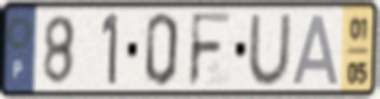0: (142, 10, 181, 90)
1: (98, 12, 121, 89)
8: (41, 12, 79, 88)
A: (290, 12, 342, 87)
F: (186, 10, 235, 89)
U: (246, 12, 294, 88)
